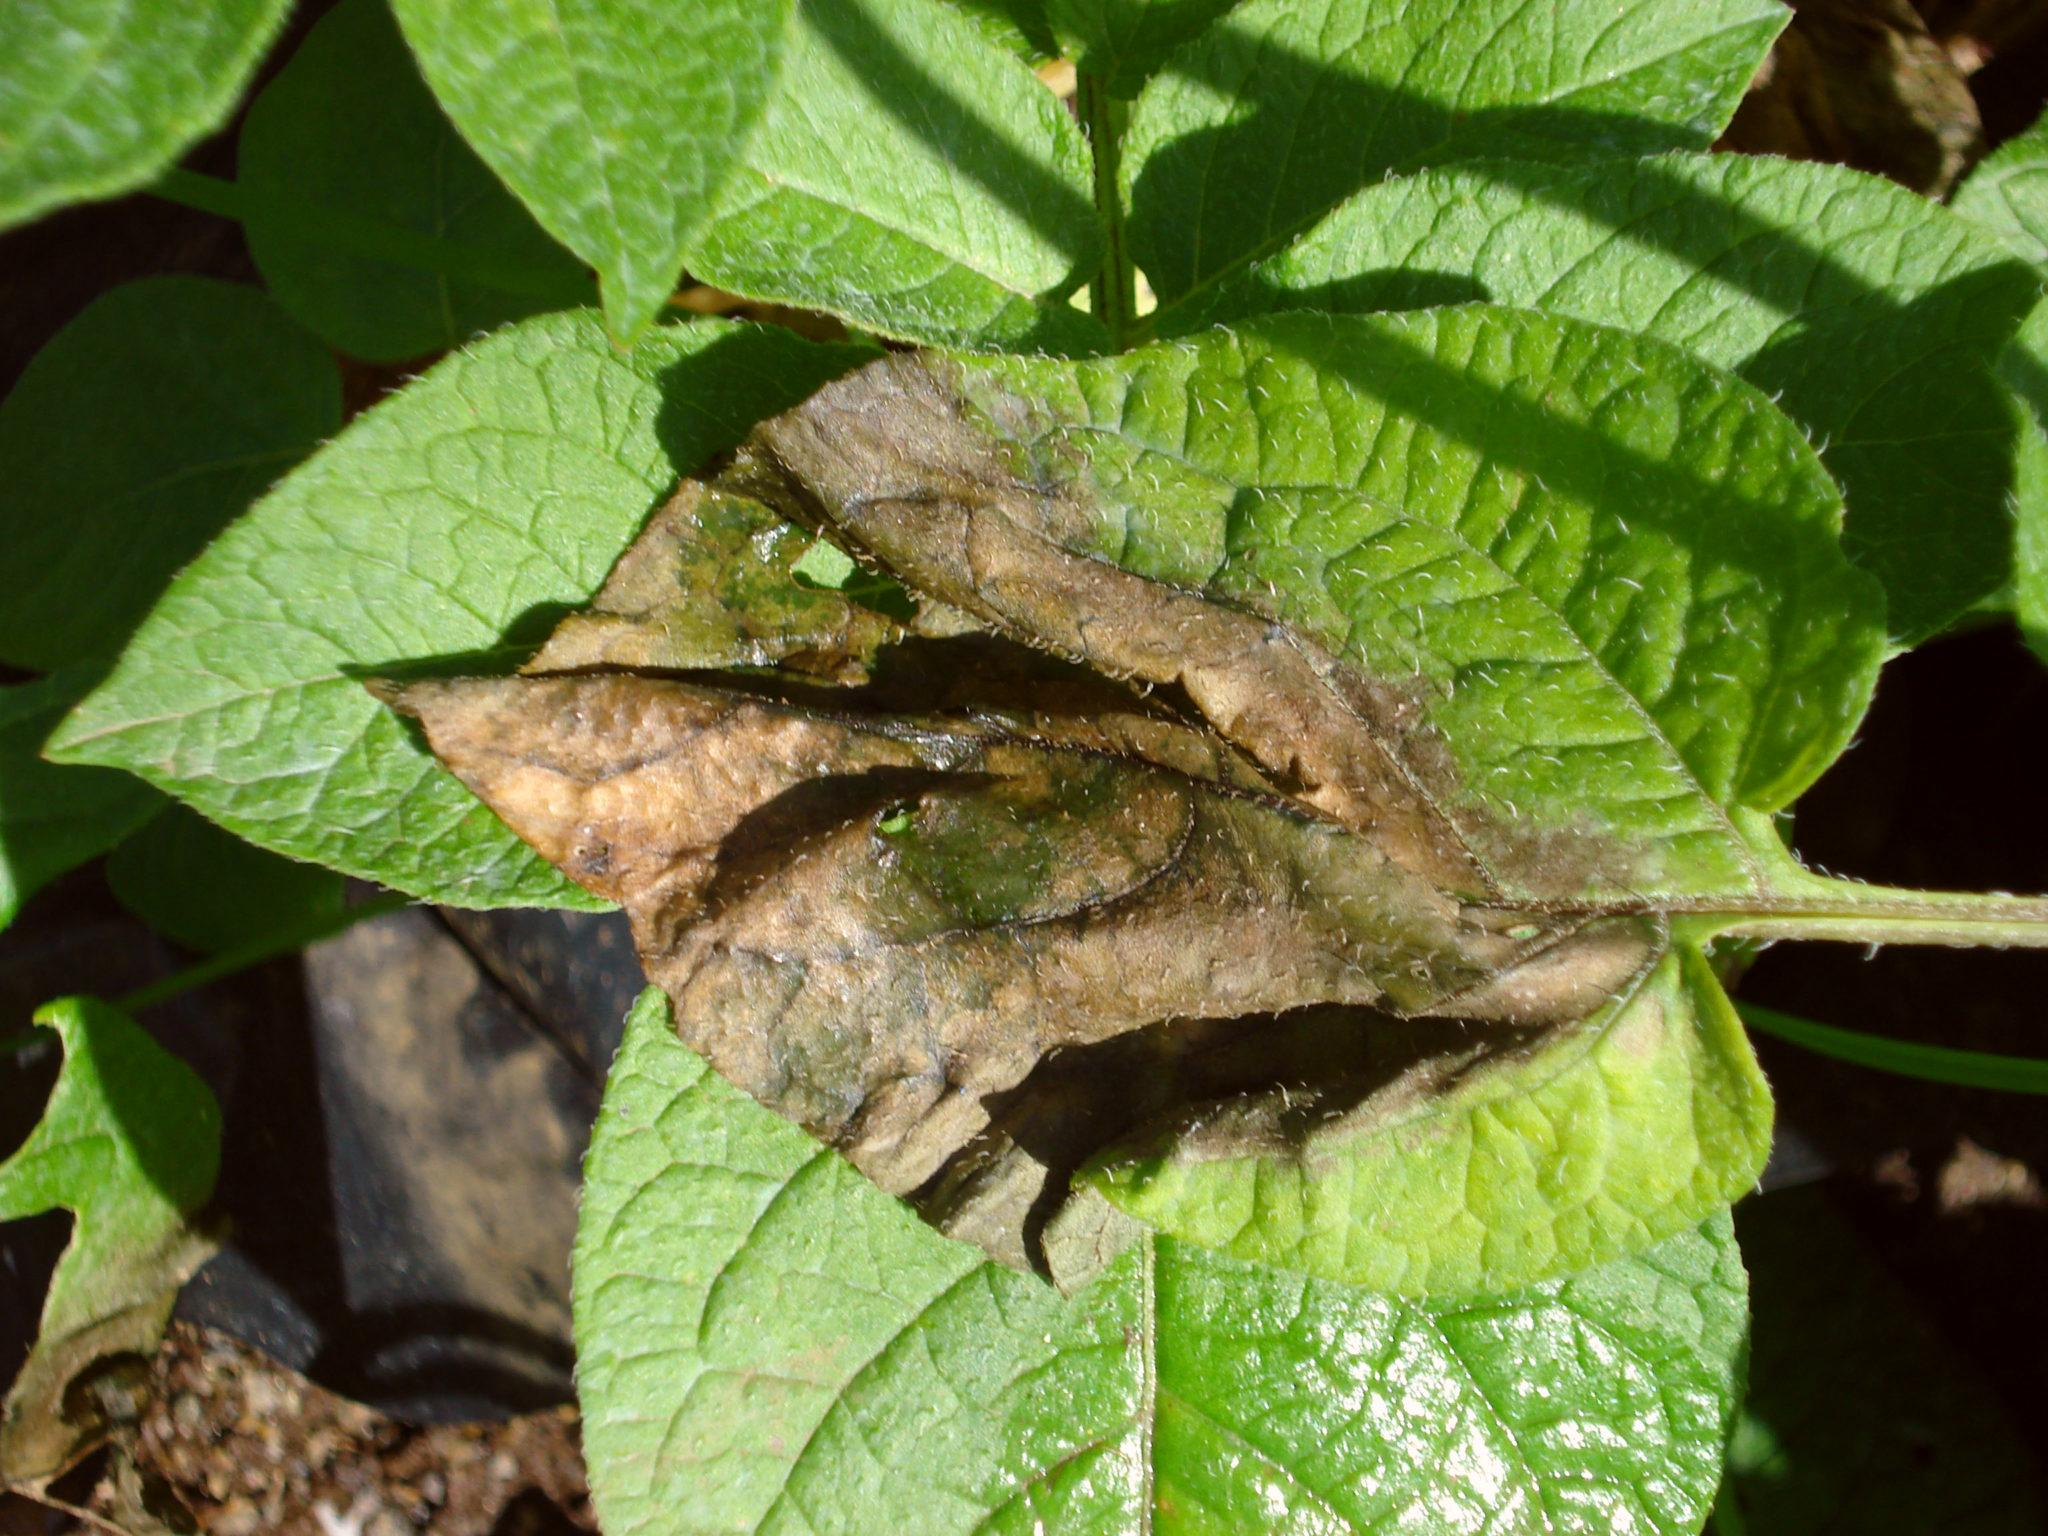Tomato leaf late blight: (340, 274, 1935, 1347)
